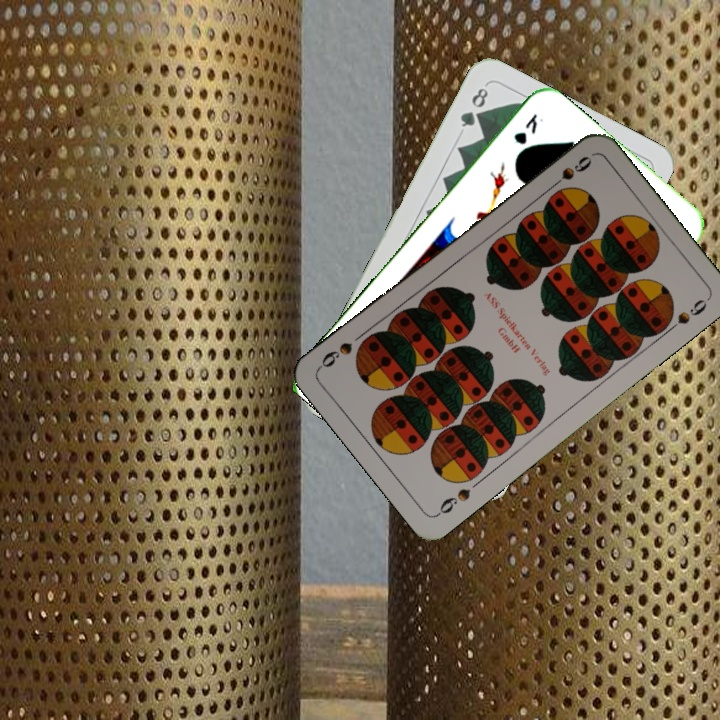G8: (456, 83, 491, 130)
GK: (509, 110, 540, 148)
S9: (544, 152, 595, 193), (433, 484, 473, 519)
